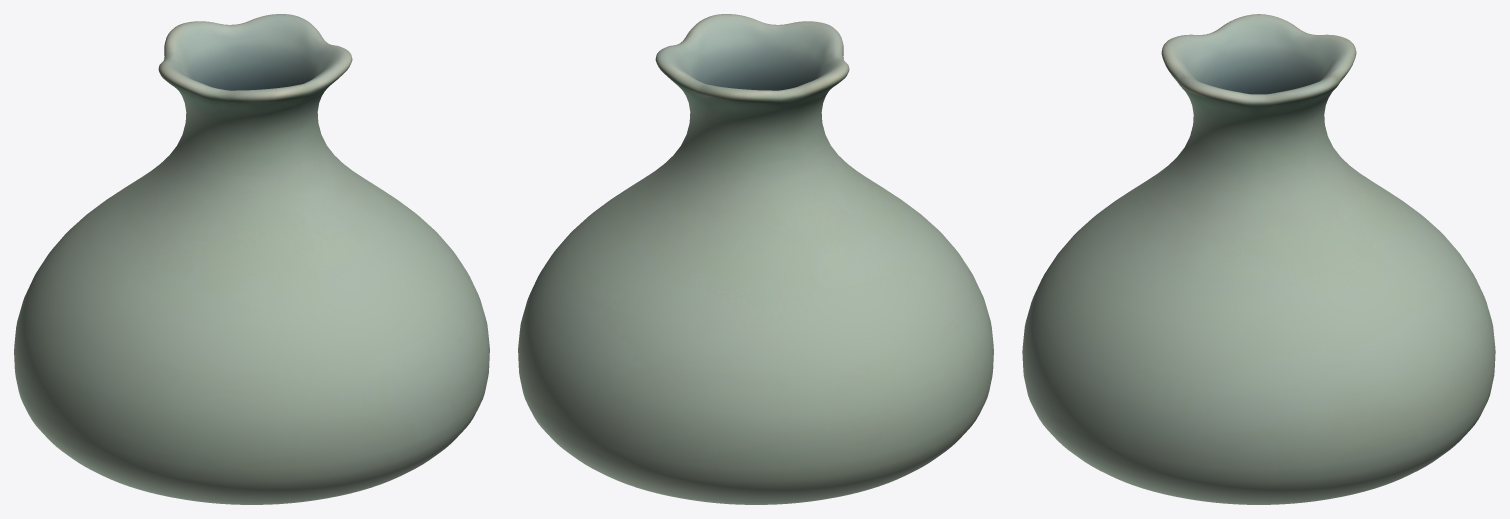
3 views of the same model, side by side, from view 1: azimuth 30°, elevation 25°; view 2: azimuth 150°, elevation 25°; view 3: azimuth 270°, elevation 25° (orthographic).
Parts seen in each view (by area): view 1: SZB_zl_03; view 2: SZB_zl_03; view 3: SZB_zl_03.
Boxes of the visible parts, bbox=[...] form: SZB_zl_03: bbox=[14, 14, 489, 504]; SZB_zl_03: bbox=[518, 14, 993, 504]; SZB_zl_03: bbox=[1022, 14, 1495, 504].
Bounding box in the file's own units: 0.1799 × 0.1597 × 0.1799.
1 material, 1 textured.
